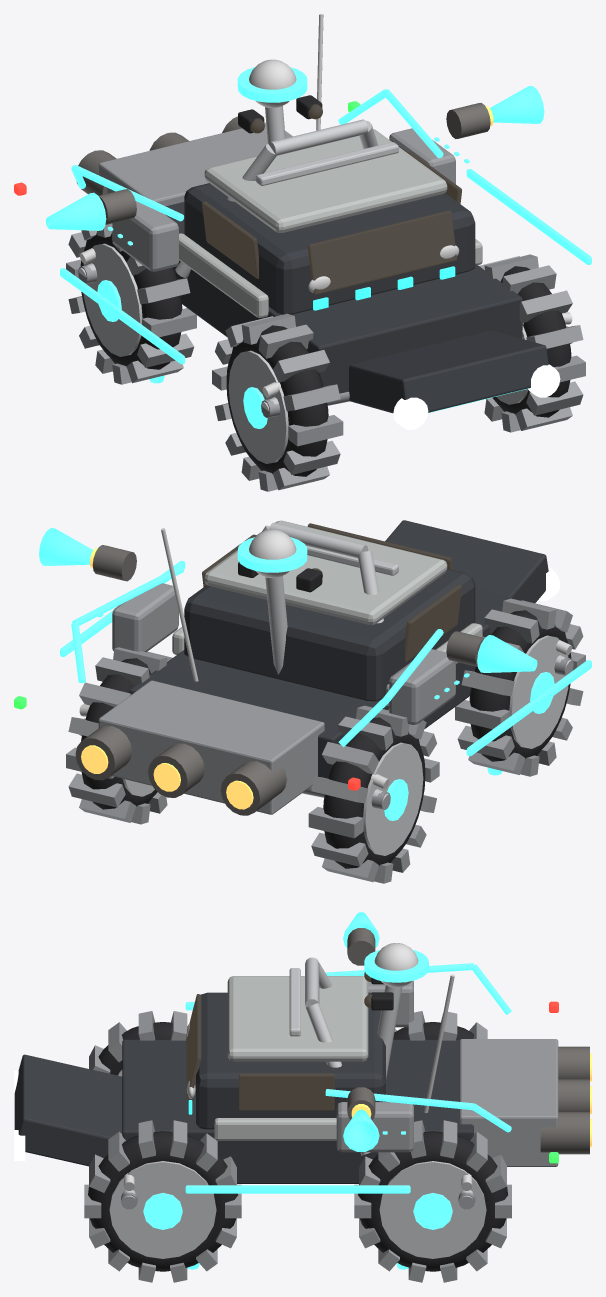
The model's file is buggy.glb.
3 renders of one model, top to bottom at view 1: azimuth 30°, elevation 25°; view 2: azimuth 150°, elevation 25°; view 3: azimuth 270°, elevation 25°, orthographic. The views are drawn at different scales.
Parts seen in each view (by area): view 1: chassis, pressure_cabin, cabin_roof, nose, wheel_fl, windshield, tail, wheel_fr, wheel_rl, wheel_fl_rim, wheel_fl_tyre, wheel_rl_rim (+24 smaller); view 2: pressure_cabin, tail, cabin_roof, chassis, wheel_rl, wheel_fl, nose, wheel_rr, wheel_rl_rim, wheel_rl_tyre, avionics_bank_1, wheel_fl_rim (+31 smaller); view 3: chassis, tail, cabin_roof, nose, pressure_cabin, wheel_rr_rim, wheel_fr_rim, wheel_fr, wheel_rr, wheel_fr_tyre, wheel_rr_tyre, side_window_1 (+27 smaller).
Part boxes in pixels (<box>): chassis: <box>165,202,522,393</box>; pressure_cabin: <box>184,183,475,314</box>; cabin_roof: <box>204,129,447,232</box>; nose: <box>349,330,548,413</box>; wheel_fl: <box>212,313,343,491</box>; windshield: <box>307,210,456,294</box>; tail: <box>98,122,292,206</box>; wheel_fr: <box>479,254,585,432</box>; wheel_rl: <box>66,223,196,384</box>; wheel_fl_rim: <box>228,350,288,463</box>; wheel_fl_tyre: <box>226,325,328,476</box>; wheel_rl_rim: <box>83,243,142,356</box>; pressure_cabin: <box>184,568,475,701</box>; tail: <box>98,680,324,814</box>; cabin_roof: <box>204,520,447,624</box>; chassis: <box>129,589,521,778</box>; wheel_rl: <box>308,705,439,883</box>; wheel_fl: <box>455,598,585,776</box>; nose: <box>385,520,548,603</box>; wheel_rr: <box>66,647,172,824</box>; wheel_rl_rim: <box>363,742,423,855</box>; wheel_rl_tyre: <box>323,717,425,868</box>; avionics_bank_1: <box>112,583,178,652</box>; wheel_fl_rim: <box>509,635,568,748</box>; chassis: <box>122,1039,473,1183</box>; tail: <box>459,1039,558,1166</box>; cabin_roof: <box>227,976,368,1061</box>; nose: <box>14,1054,122,1166</box>; pressure_cabin: <box>196,992,385,1129</box>; wheel_rr_rim: <box>379,1161,486,1258</box>; wheel_fr_rim: <box>109,1161,216,1258</box>; wheel_fr: <box>84,1120,241,1282</box>; wheel_rr: <box>354,1120,511,1282</box>; wheel_fr_tyre: <box>88,1131,237,1271</box>; wheel_rr_tyre: <box>358,1131,507,1271</box>; side_window_1: <box>239,1073,334,1110</box>.
Size of the model in its own units: 4.61 by 2.73 by 5.14.
